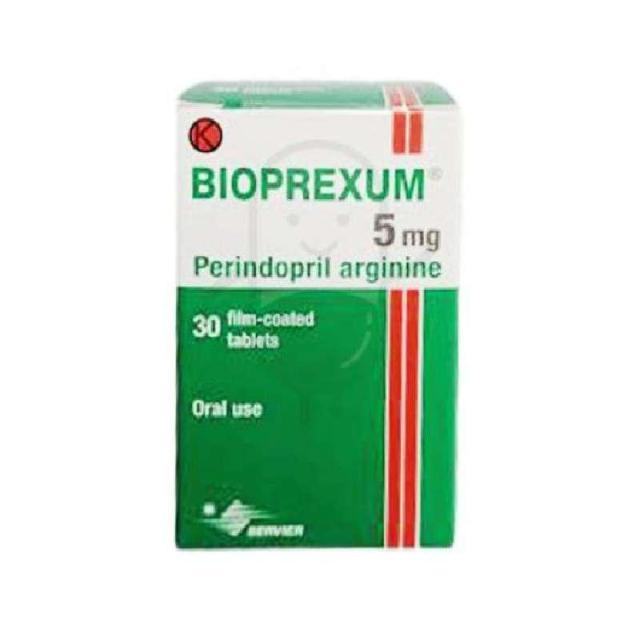drug-name: (188, 161, 426, 205)
